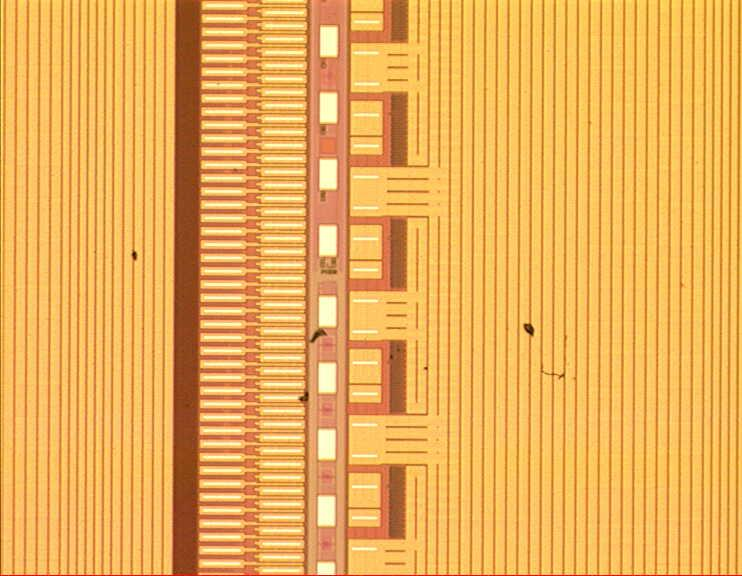PO CONTAMINATION: (125, 111, 693, 409)
